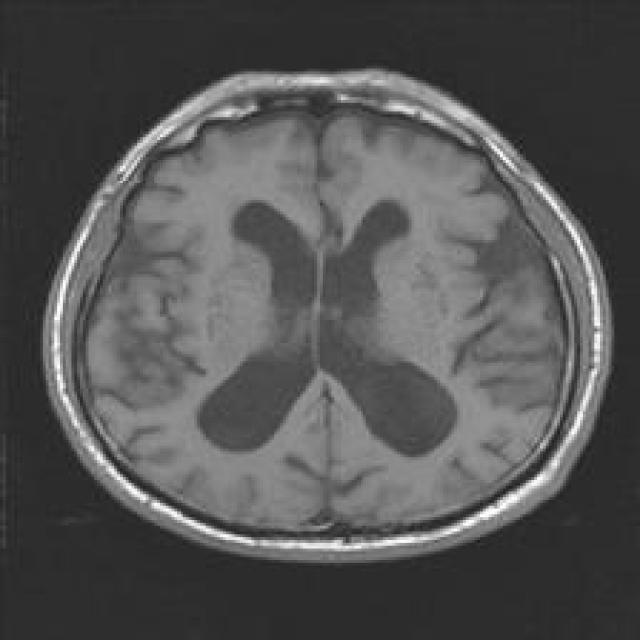no_tumor: (42, 56, 617, 563)
